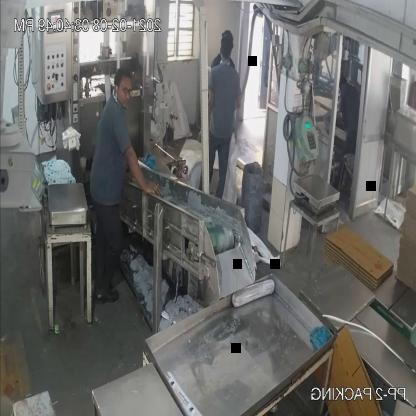no_glove: (124, 136, 167, 210)
